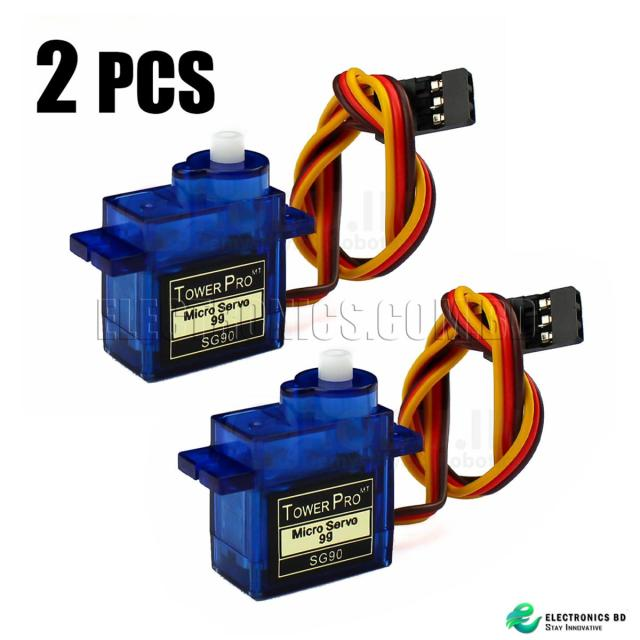motor: (79, 102, 295, 386), (182, 356, 416, 599)
